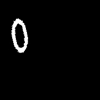chain: (12, 19, 27, 52)
